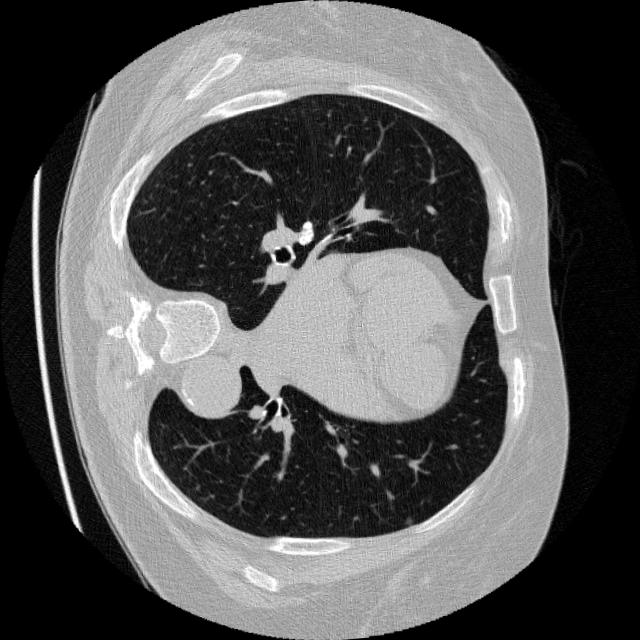nodule: (398, 508, 420, 530)
